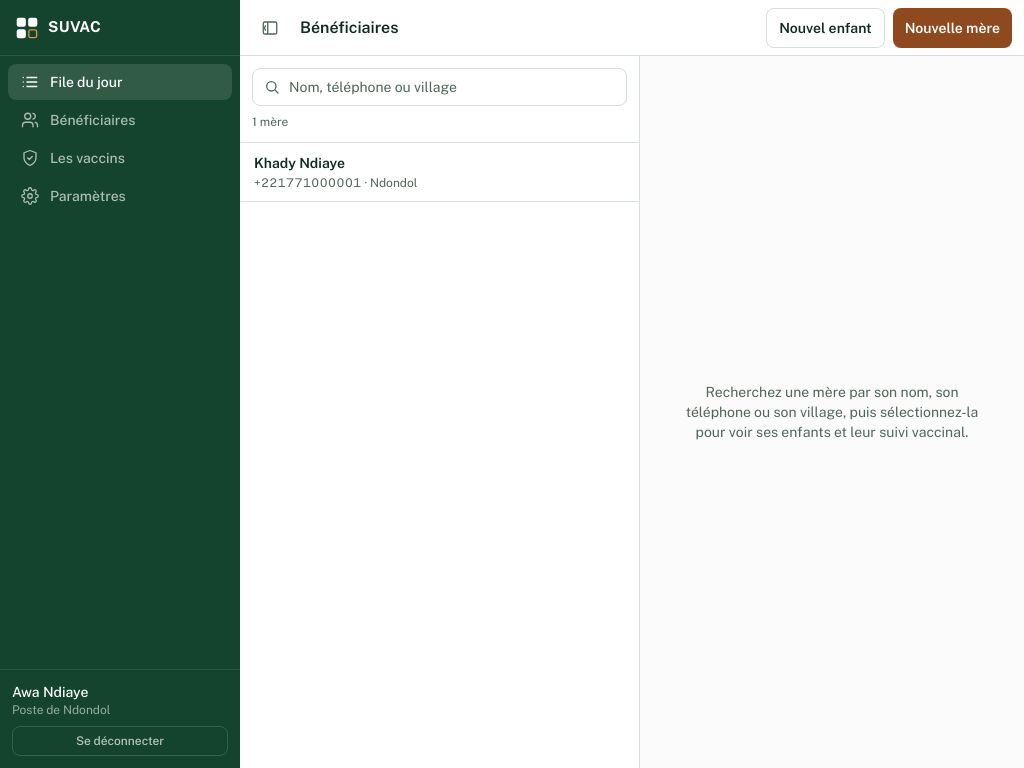
Scenario: Beneficiaires › ouvre la fiche de la mère au clic
Click the text "Khady Ndiaye".
click(300, 163)  # box [254,153,345,173]
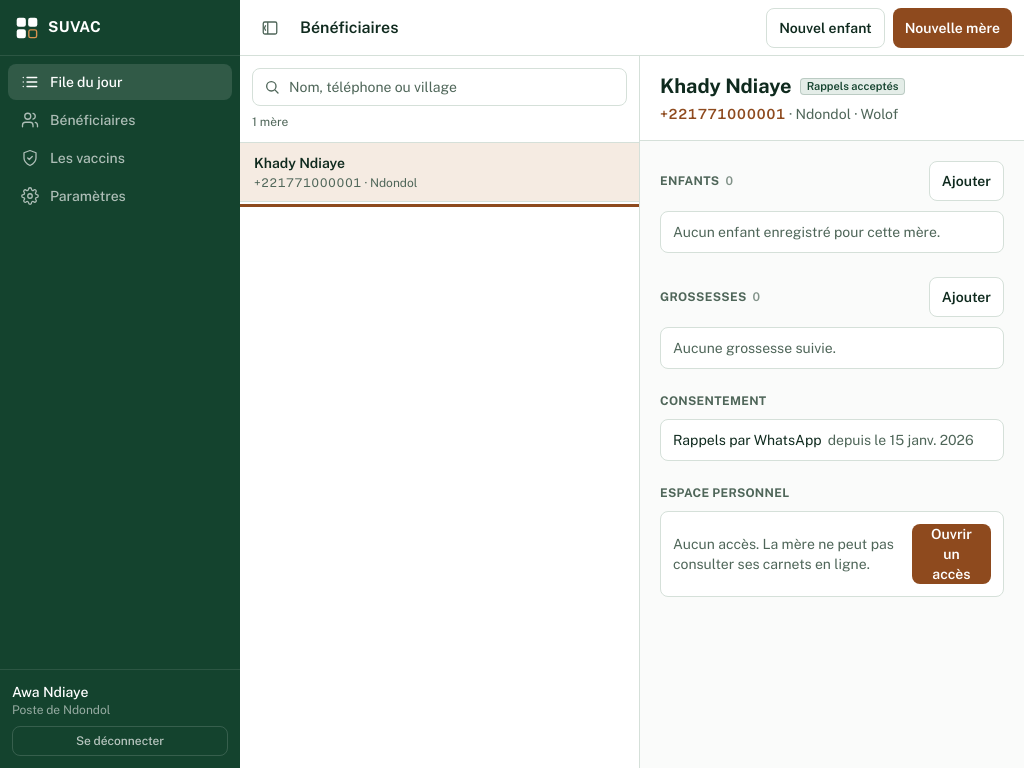
Expected: the text "Rappels acceptés" is shown, [800,78,905,94]
Expected: the text "Aucun enfant enregistré pour cette mère." is shown, [660,211,1004,253]
